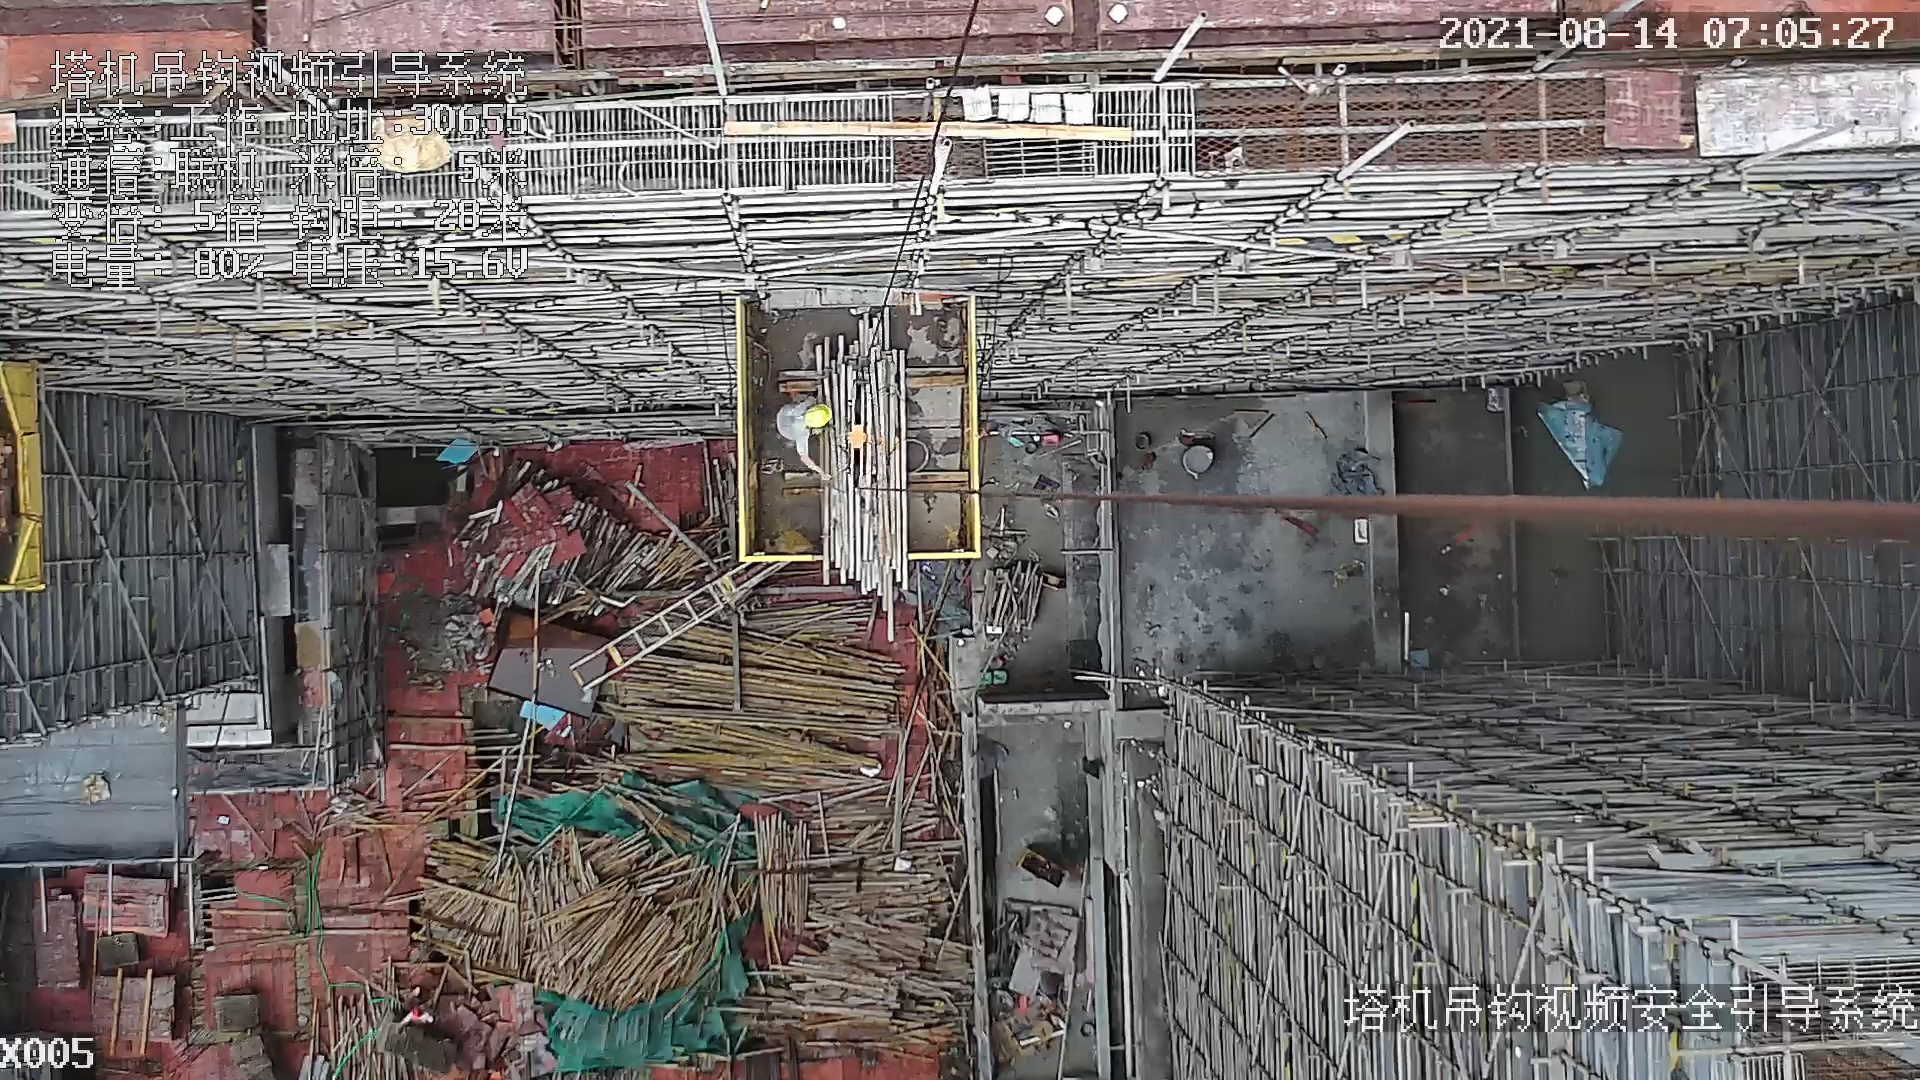helmet: (804, 403, 833, 430)
hook: (833, 380, 877, 501)
person: (777, 395, 835, 487)
